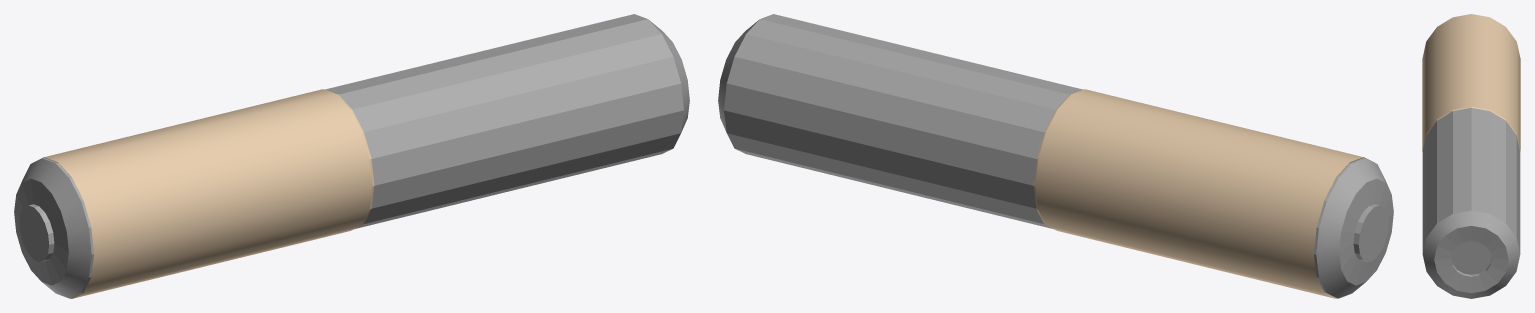
File: Battery.fbx
3 renders of one model, left to right at view 1: azimuth 30°, elevation 25°; view 2: azimuth 150°, elevation 25°; view 3: azimuth 270°, elevation 25°, orthographic. The views are drawn at different scales.
Parts seen in each view (by area): view 1: Battery; view 2: Battery; view 3: Battery.
Part boxes in pixels (x1,y1,x2,y2): Battery: (14, 14, 689, 298); Battery: (718, 14, 1393, 298); Battery: (1422, 14, 1520, 298).
Bounding box in the file's own units: 5.06 × 1.01 × 1.01.
